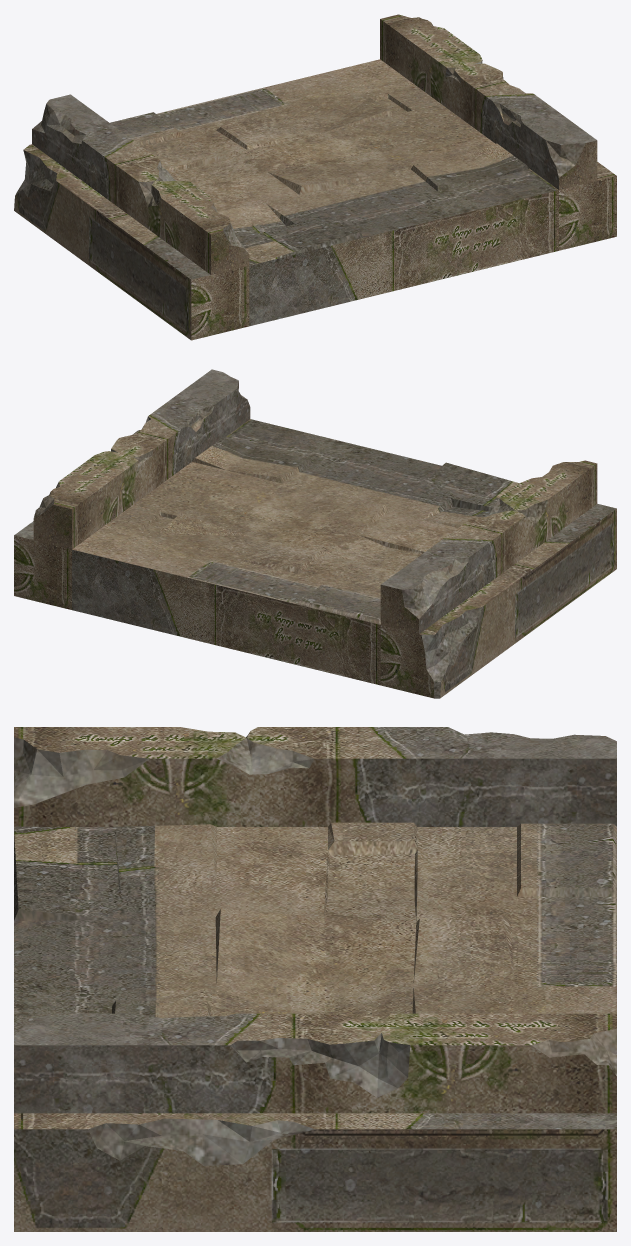
The model's file is bg_lut_lutomb_brokenbridge02_sm_old.FBX.
The picture shows the model from 3 angles, top to bottom: view 1: azimuth 30°, elevation 25°; view 2: azimuth 150°, elevation 25°; view 3: azimuth 270°, elevation 25°; orthographic projection. The views are drawn at different scales.
Parts seen in each view (by area): view 1: bg_lut_lutomb_brokenbridge02_sm_old; view 2: bg_lut_lutomb_brokenbridge02_sm_old; view 3: bg_lut_lutomb_brokenbridge02_sm_old.
Part boxes in pixels (x1,y1,x2,y2): bg_lut_lutomb_brokenbridge02_sm_old: (14,14,616,340); bg_lut_lutomb_brokenbridge02_sm_old: (14,369,616,698); bg_lut_lutomb_brokenbridge02_sm_old: (14,727,616,1231).
Size of the model in its own units: 528 by 120 by 384.
